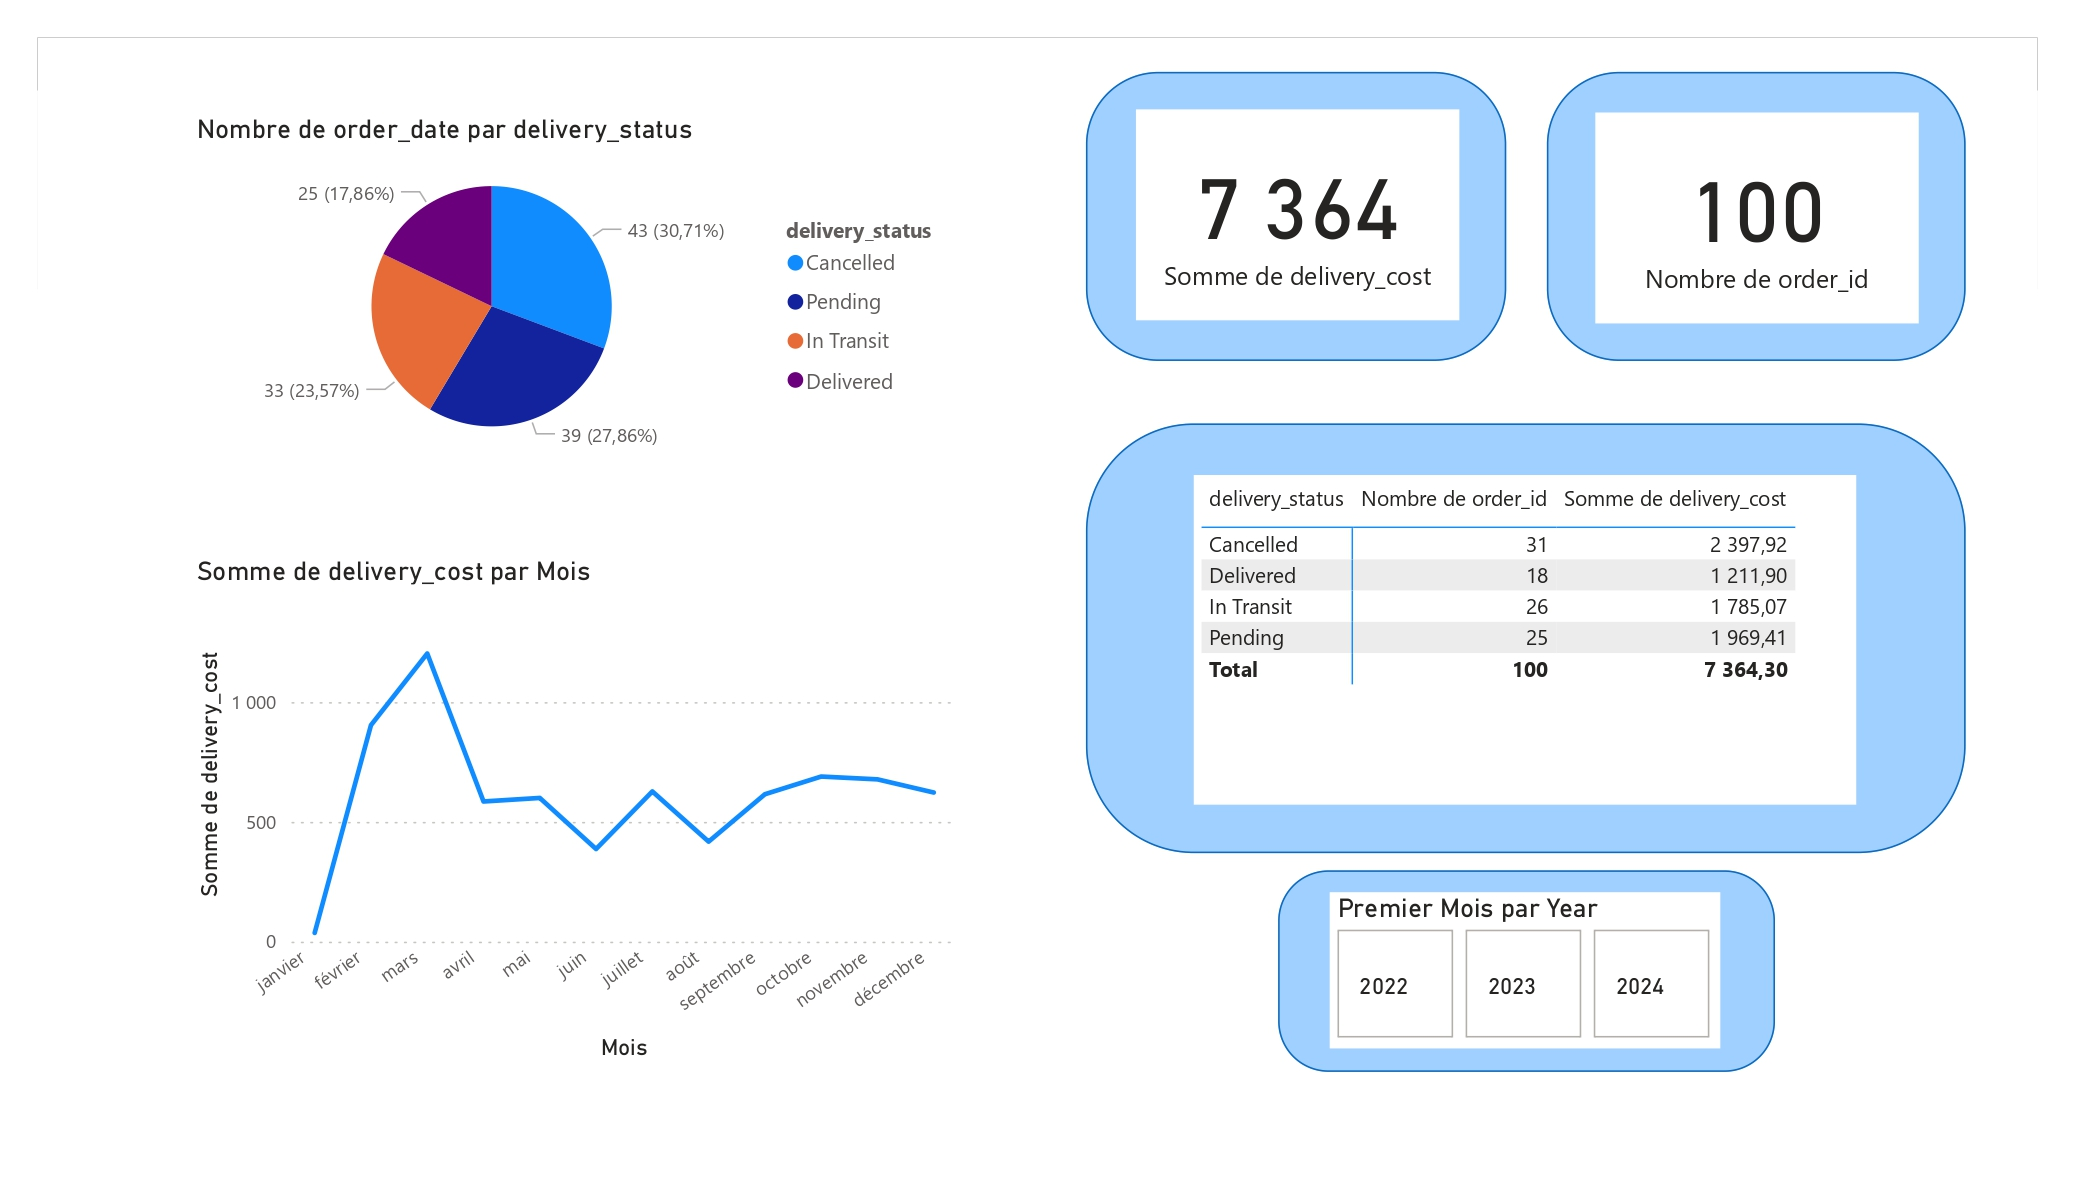

Layout of this report page (visuals, bound fields, positions):
{"tool":"powerbi","page":{"name":"Page 1","canvas":[1280,720],"ordinal":0},"visuals":[{"type":"pieChart","fields":{"Category":["enhanced_order_insights_orc.delivery_status"],"Y":["CountNonNull(enhanced_order_insights_orc.order_date)"]},"box":[97,47.7,496.3,230.6],"z":0},{"type":"lineChart","fields":{"Y":["Sum(enhanced_order_insights_orc.delivery_cost)"],"Category":["enhanced_order_insights_orc.order_date.Variation.Hiérarchie de dates.Mois"]},"box":[97,330.8,496.3,327.7],"z":1000},{"type":"shape","box":[671.2,246.5,563.1,275.2],"z":2000},{"type":"pivotTable","fields":{"Values":["Count(enhanced_order_insights_orc.order_id)","Sum(enhanced_order_insights_orc.delivery_cost)"],"Rows":["enhanced_order_insights_orc.delivery_status"]},"box":[739.6,279.9,424.7,211.6],"z":3000},{"type":"shape","box":[965.5,22.3,268.8,184.5],"z":4000},{"type":"card","fields":{"Values":["Count(enhanced_order_insights_orc.order_id)"]},"box":[997.3,47.7,206.8,135.2],"z":5000},{"type":"shape","box":[793.7,532.9,318.1,128.8],"z":6000},{"type":"shape","box":[671.2,22.3,268.8,184.5],"z":7000},{"type":"card","fields":{"Values":["Sum(enhanced_order_insights_orc.delivery_cost)"]},"box":[703.1,46.1,206.8,135.2],"z":8000},{"type":"advancedSlicerVisual","fields":{"Values":["date.Year"]},"box":[827.1,547.2,249.7,100.2],"z":9000}]}

Visuals, with their boxes in screenshot pixels (x1, y1, x2, y2):
pieChart - enhanced_order_insights_orc.delivery_status x CountNonNull(enhanced_order_insights_orc.order_date): bbox=(189, 112, 965, 472)
lineChart - Sum(enhanced_order_insights_orc.delivery_cost) x enhanced_order_insights_orc.order_date.Variation.Hiérarchie de dates.Mois: bbox=(189, 554, 965, 1066)
shape: bbox=(1086, 423, 1966, 853)
pivotTable - Count(enhanced_order_insights_orc.order_id) x Sum(enhanced_order_insights_orc.delivery_cost): bbox=(1193, 475, 1857, 805)
shape: bbox=(1546, 72, 1966, 361)
card - Count(enhanced_order_insights_orc.order_id): bbox=(1596, 112, 1919, 323)
shape: bbox=(1278, 870, 1775, 1071)
shape: bbox=(1086, 72, 1506, 361)
card - Sum(enhanced_order_insights_orc.delivery_cost): bbox=(1136, 110, 1459, 321)
advancedSlicerVisual - date.Year: bbox=(1330, 893, 1720, 1049)
